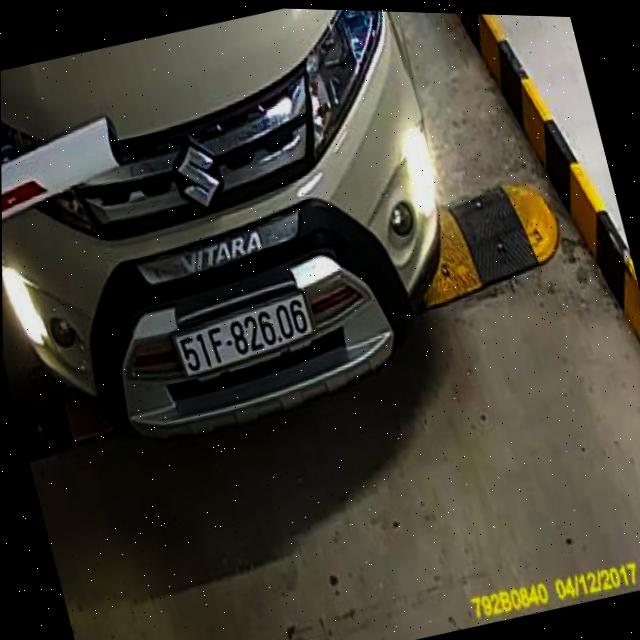car: (0, 0, 499, 495)
plate: (167, 286, 323, 385)
